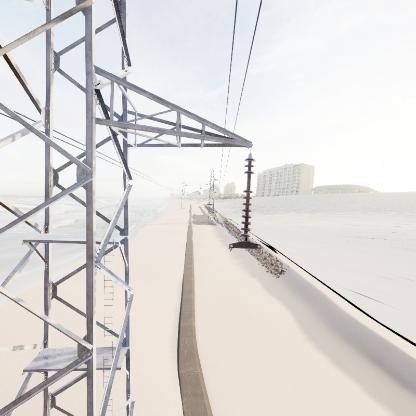insulator: (238, 154, 259, 244)
